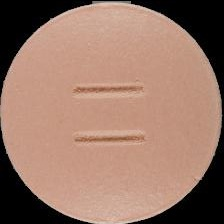33261-918: (0, 0, 224, 224)
